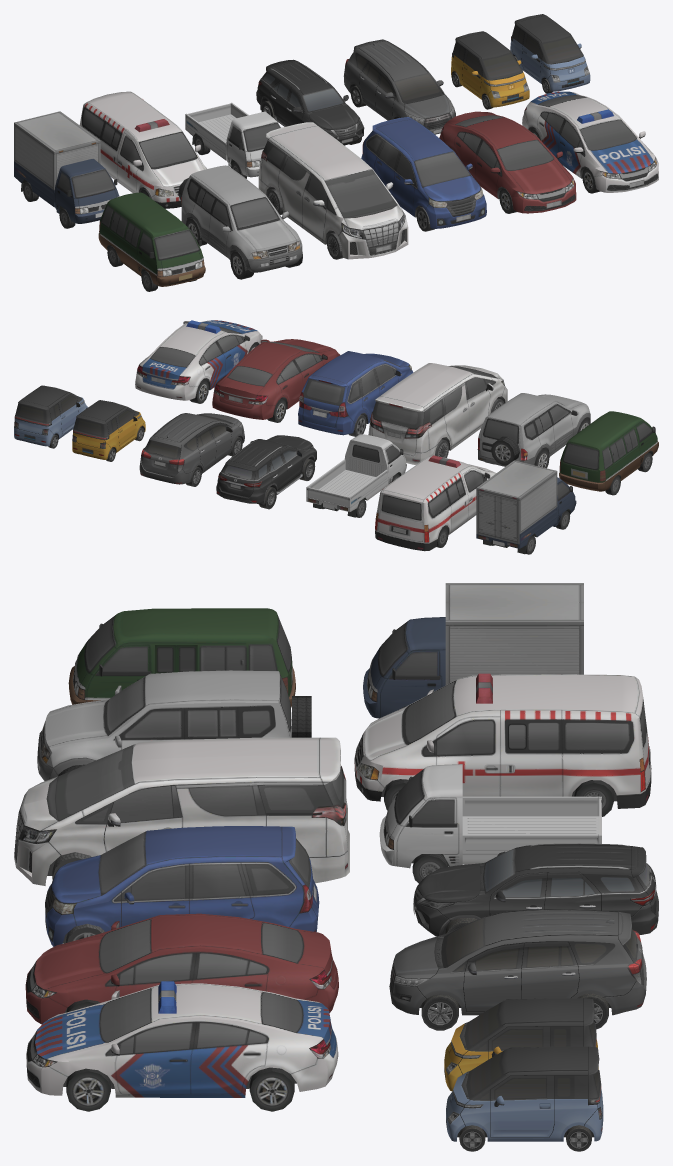
The model's file is cars.glb.
3 renders of one model, top to bottom at view 1: azimuth 30°, elevation 25°; view 2: azimuth 150°, elevation 25°; view 3: azimuth 270°, elevation 25°, orthographic. The views are drawn at different scales.
Parts seen in each view (by area): view 1: Toyota Alphard, Isuzu Trooper, Dihatsu Xenia, Honda Civic Polisi, Honda Civic Civillian, Ambulance, Box, Suzuki Carry Ankot, Toyota Innova, Toyota Fortuner, Wuling EV Bue, Wuling EV (+1 smaller); view 2: Toyota Alphard, Ambulance, Box, Honda Civic Polisi, Honda Civic Civillian, Dihatsu Xenia, Isuzu Trooper, Suzuki Carry Ankot, Toyota Innova, Toyota Fortuner, Pickup, Wuling EV (+1 smaller); view 3: Toyota Alphard, Ambulance, Honda Civic Polisi, Dihatsu Xenia, Toyota Innova, Honda Civic Civillian, Box, Isuzu Trooper, Toyota Fortuner, Pickup, Suzuki Carry Ankot, Wuling EV Bue (+1 smaller).
Boxes of the visible parts, x1,y1,x2,y2 form: Toyota Alphard: (258, 122, 408, 259); Isuzu Trooper: (178, 165, 302, 279); Dihatsu Xenia: (361, 117, 486, 231); Honda Civic Polisi: (522, 91, 658, 193); Honda Civic Civillian: (439, 111, 576, 213); Ambulance: (79, 91, 206, 208); Box: (14, 111, 119, 228); Suzuki Carry Ankot: (98, 192, 205, 291); Toyota Innova: (343, 39, 455, 134); Toyota Fortuner: (256, 59, 364, 145); Wuling EV Bue: (510, 14, 590, 93); Wuling EV: (451, 31, 529, 109); Toyota Alphard: (368, 363, 507, 464); Ambulance: (375, 455, 496, 551); Box: (476, 460, 576, 554); Honda Civic Polisi: (135, 320, 262, 403); Honda Civic Civillian: (212, 339, 339, 422); Dihatsu Xenia: (298, 351, 413, 436); Isuzu Trooper: (477, 393, 590, 468); Suzuki Carry Ankot: (559, 411, 658, 495); Toyota Innova: (139, 413, 244, 486); Toyota Fortuner: (216, 435, 316, 509); Pickup: (306, 434, 406, 517); Wuling EV: (72, 400, 145, 461); Toyota Alphard: (14, 737, 349, 885); Ambulance: (354, 673, 651, 816); Honda Civic Polisi: (26, 981, 338, 1111); Dihatsu Xenia: (45, 826, 319, 946); Toyota Innova: (389, 909, 646, 1030); Honda Civic Civillian: (25, 913, 338, 1024); Box: (363, 583, 583, 718); Isuzu Trooper: (37, 670, 311, 781); Toyota Fortuner: (413, 843, 658, 936); Pickup: (379, 764, 601, 883); Suzuki Carry Ankot: (68, 608, 295, 707); Wuling EV Bue: (446, 1046, 603, 1151).
Bounding box in the file's own units: 3.32 × 0.4021 × 1.97.
Materials: 21 (21 with a texture image).
